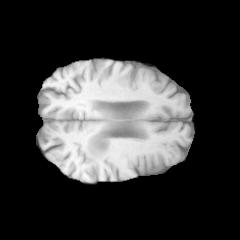glioma: (87, 135, 110, 157)
